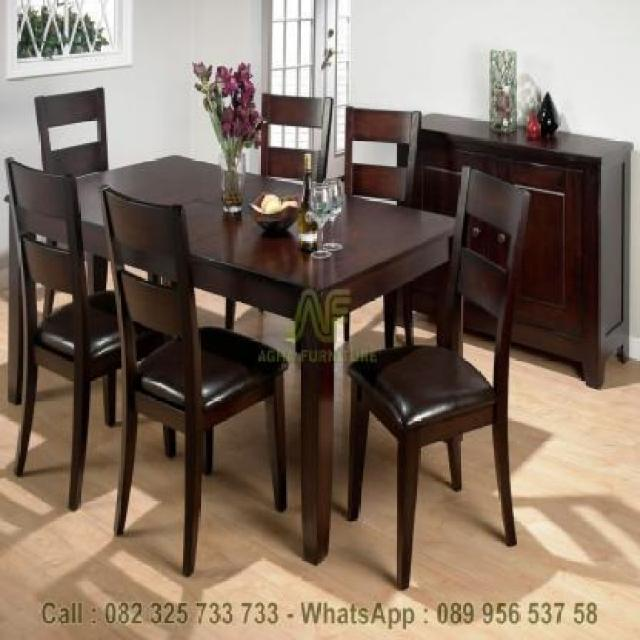tables: (3, 152, 457, 566)
